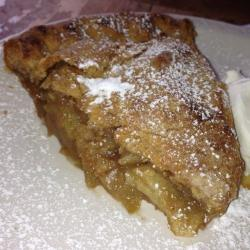apple_pie: (4, 10, 244, 235)
